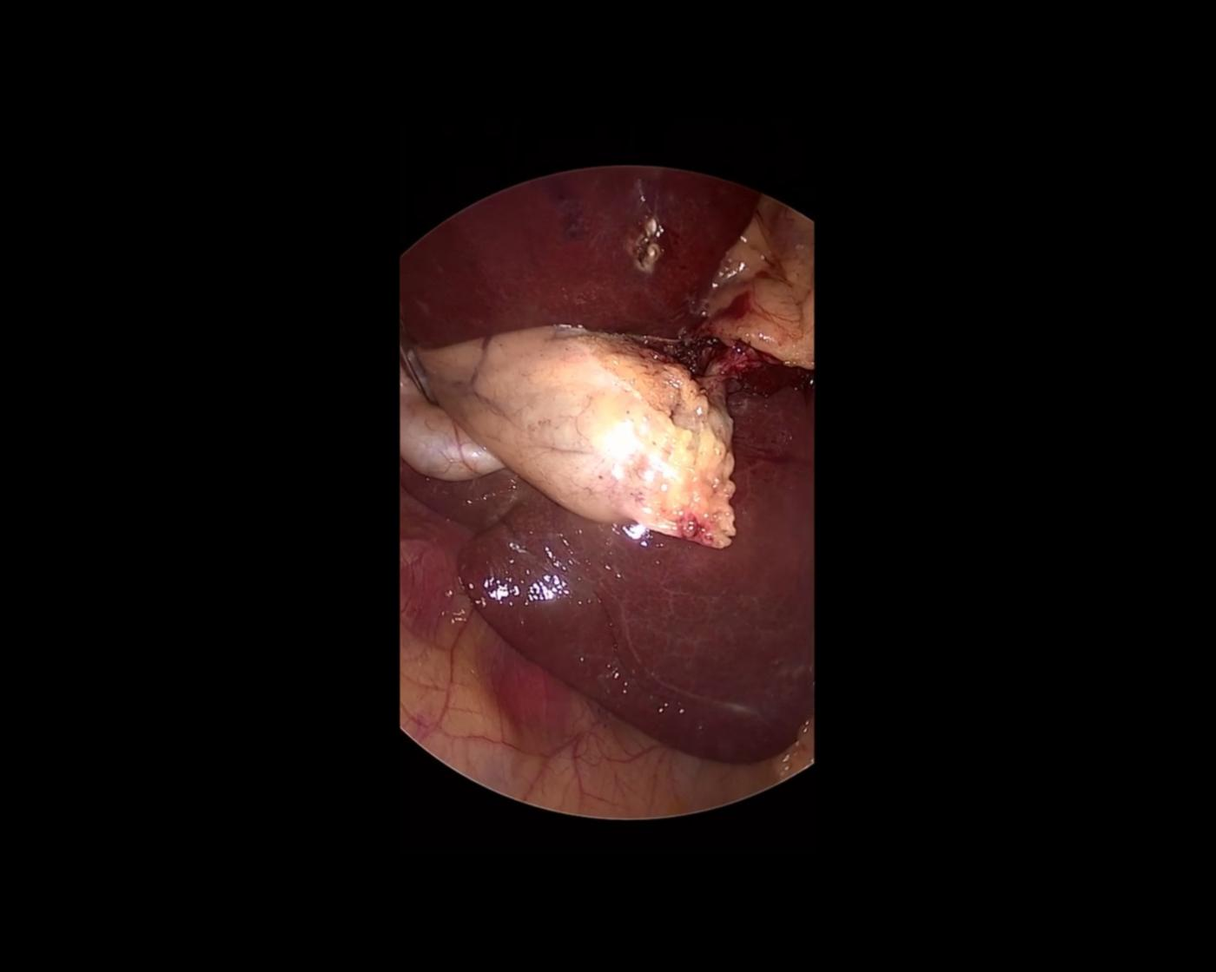Gallbladder: (379, 288, 772, 550)
Liver: (396, 360, 894, 824), (388, 155, 771, 365)
